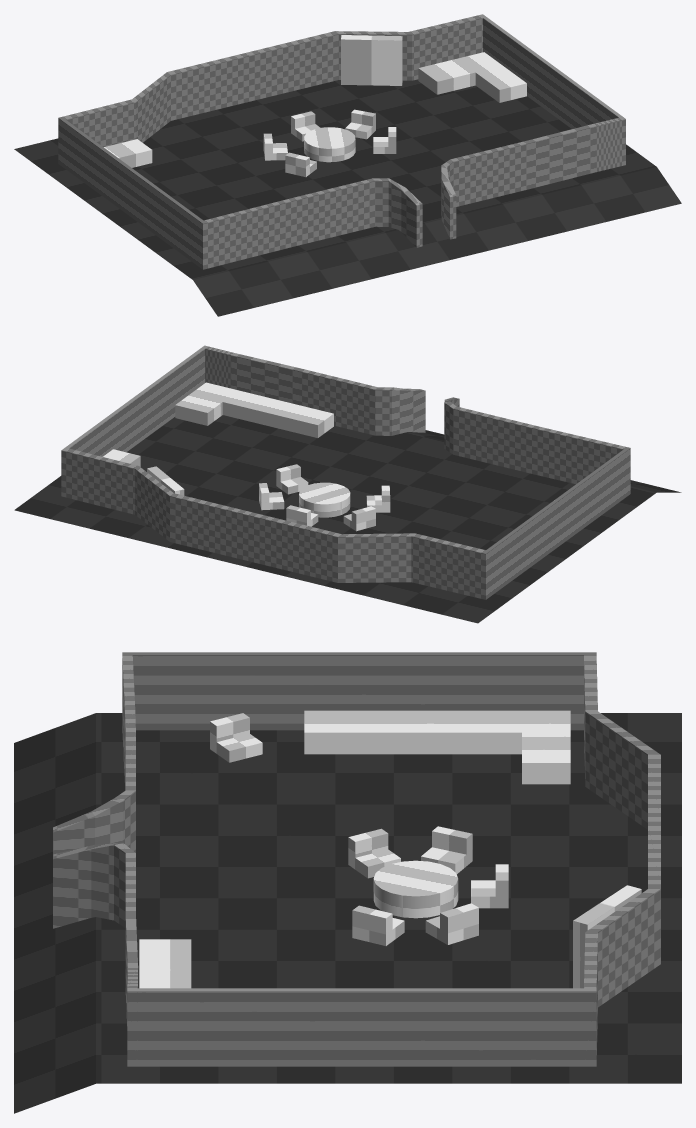
Rendered from ShipHUB_BlockOut_FBX.fbx.
3 renders of one model, top to bottom at view 1: azimuth 30°, elevation 25°; view 2: azimuth 150°, elevation 25°; view 3: azimuth 270°, elevation 25°, orthographic. The views are drawn at different scales.
Visible parts, largest first — view 1: floor, Walls, AbilitiesTable, CollectibleShelf, LevelSelectTable, ArmoryTable, Chair3, Chair2, Chair, Chair1, Chair4; view 2: Walls, floor, Coach, LevelSelectTable, Chair4, Chair1, Chair3, Chair, Chair2, CollectibleShelf; view 3: floor, Walls, ArmoryTable, LevelSelectTable, Coach, Chair5, CollectibleShelf, Chair2, Chair1, Chair3, Chair4, Chair.
Boxes of the visible parts, box(x1,y1,x2,y2) form: floor: box(14, 79, 681, 316); Walls: box(58, 14, 625, 269); AbilitiesTable: box(418, 52, 526, 102); CollectibleShelf: box(341, 35, 402, 85); LevelSelectTable: box(304, 127, 355, 162); ArmoryTable: box(104, 139, 152, 167); Chair3: box(345, 109, 375, 139); Chair2: box(285, 152, 316, 177); Chair: box(291, 111, 320, 141); Chair1: box(263, 133, 287, 160); Chair4: box(373, 127, 396, 153); Walls: box(61, 345, 630, 599); floor: box(14, 415, 681, 623); Coach: box(175, 382, 333, 437); LevelSelectTable: box(299, 482, 350, 517); Chair4: box(276, 464, 308, 494); Chair1: box(343, 506, 375, 531); Chair3: box(259, 483, 284, 510); Chair: box(286, 505, 318, 526); Chair2: box(366, 485, 390, 512); CollectibleShelf: box(147, 466, 184, 495); floor: box(14, 713, 681, 1113); Walls: box(53, 652, 660, 1066); ArmoryTable: box(304, 710, 570, 784); LevelSelectTable: box(373, 860, 458, 918); Coach: box(139, 939, 191, 988); Chair5: box(210, 713, 262, 762); CollectibleShelf: box(573, 885, 641, 988); Chair2: box(348, 828, 400, 878); Chair1: box(421, 826, 472, 873); Chair3: box(425, 903, 478, 944); Chair4: box(352, 905, 404, 945); Chair: box(471, 864, 508, 908).
Size of the model in its own units: 41.45 by 5.51 by 31.56.
3 materials, 3 textured.
